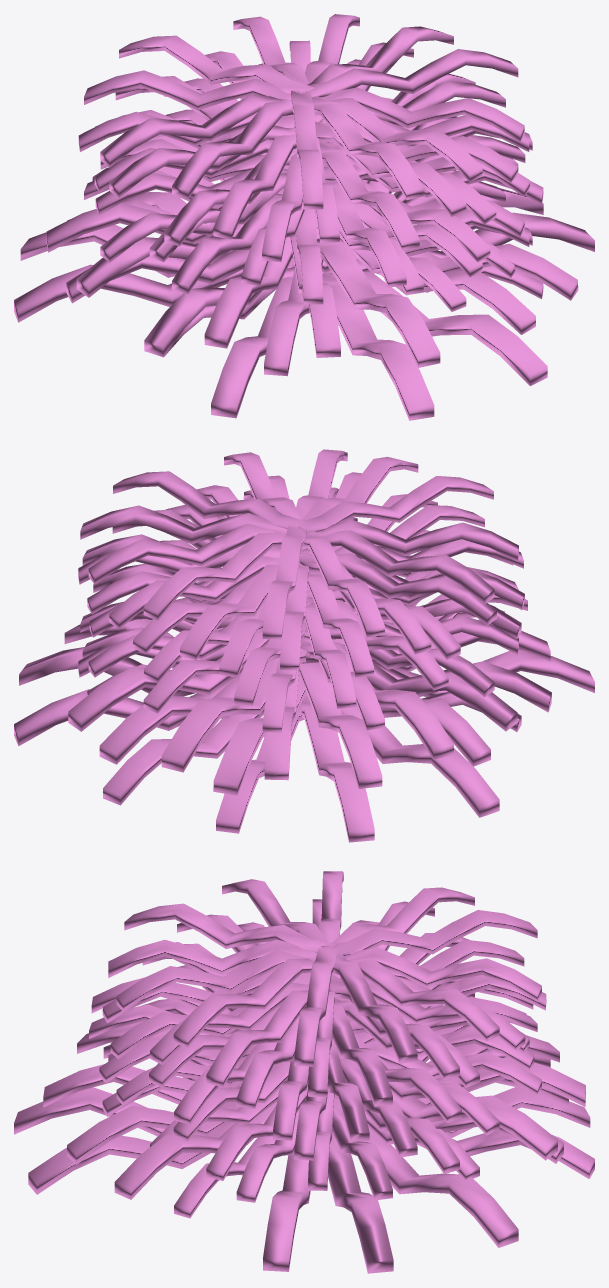
File: BigFifaChewBush.fbx
3 renders of one model, top to bottom at view 1: azimuth 30°, elevation 25°; view 2: azimuth 150°, elevation 25°; view 3: azimuth 270°, elevation 25°, orthographic. The views are drawn at different scales.
Parts seen in each view (by area): view 1: Cube.060; view 2: Cube.060; view 3: Cube.060.
Boxes of the visible parts, x1,y1,x2,y2 form: Cube.060: [14, 14, 594, 420]; Cube.060: [14, 449, 594, 842]; Cube.060: [14, 871, 594, 1273].
Bounding box in the file's own units: 168 × 67.51 × 169.
